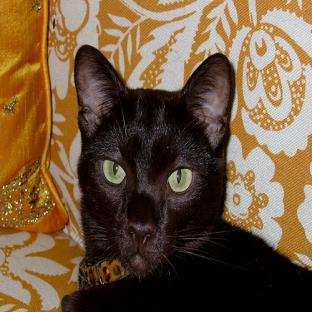Animal: (63, 45, 311, 311)
